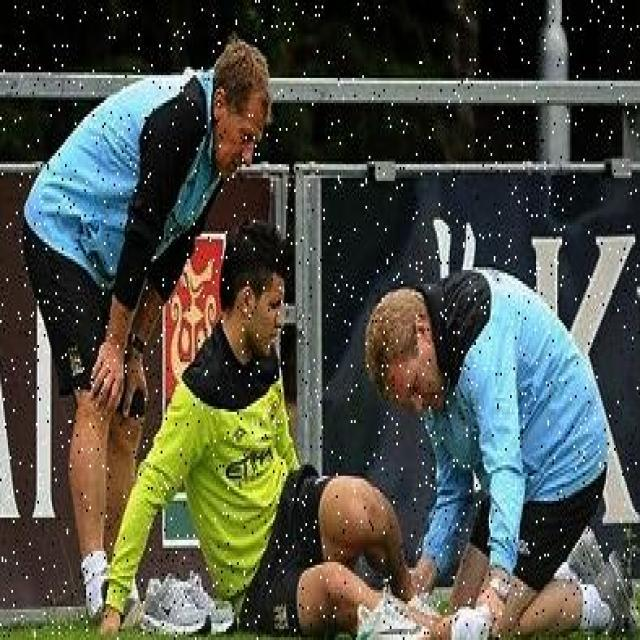fall: (170, 214, 400, 637)
